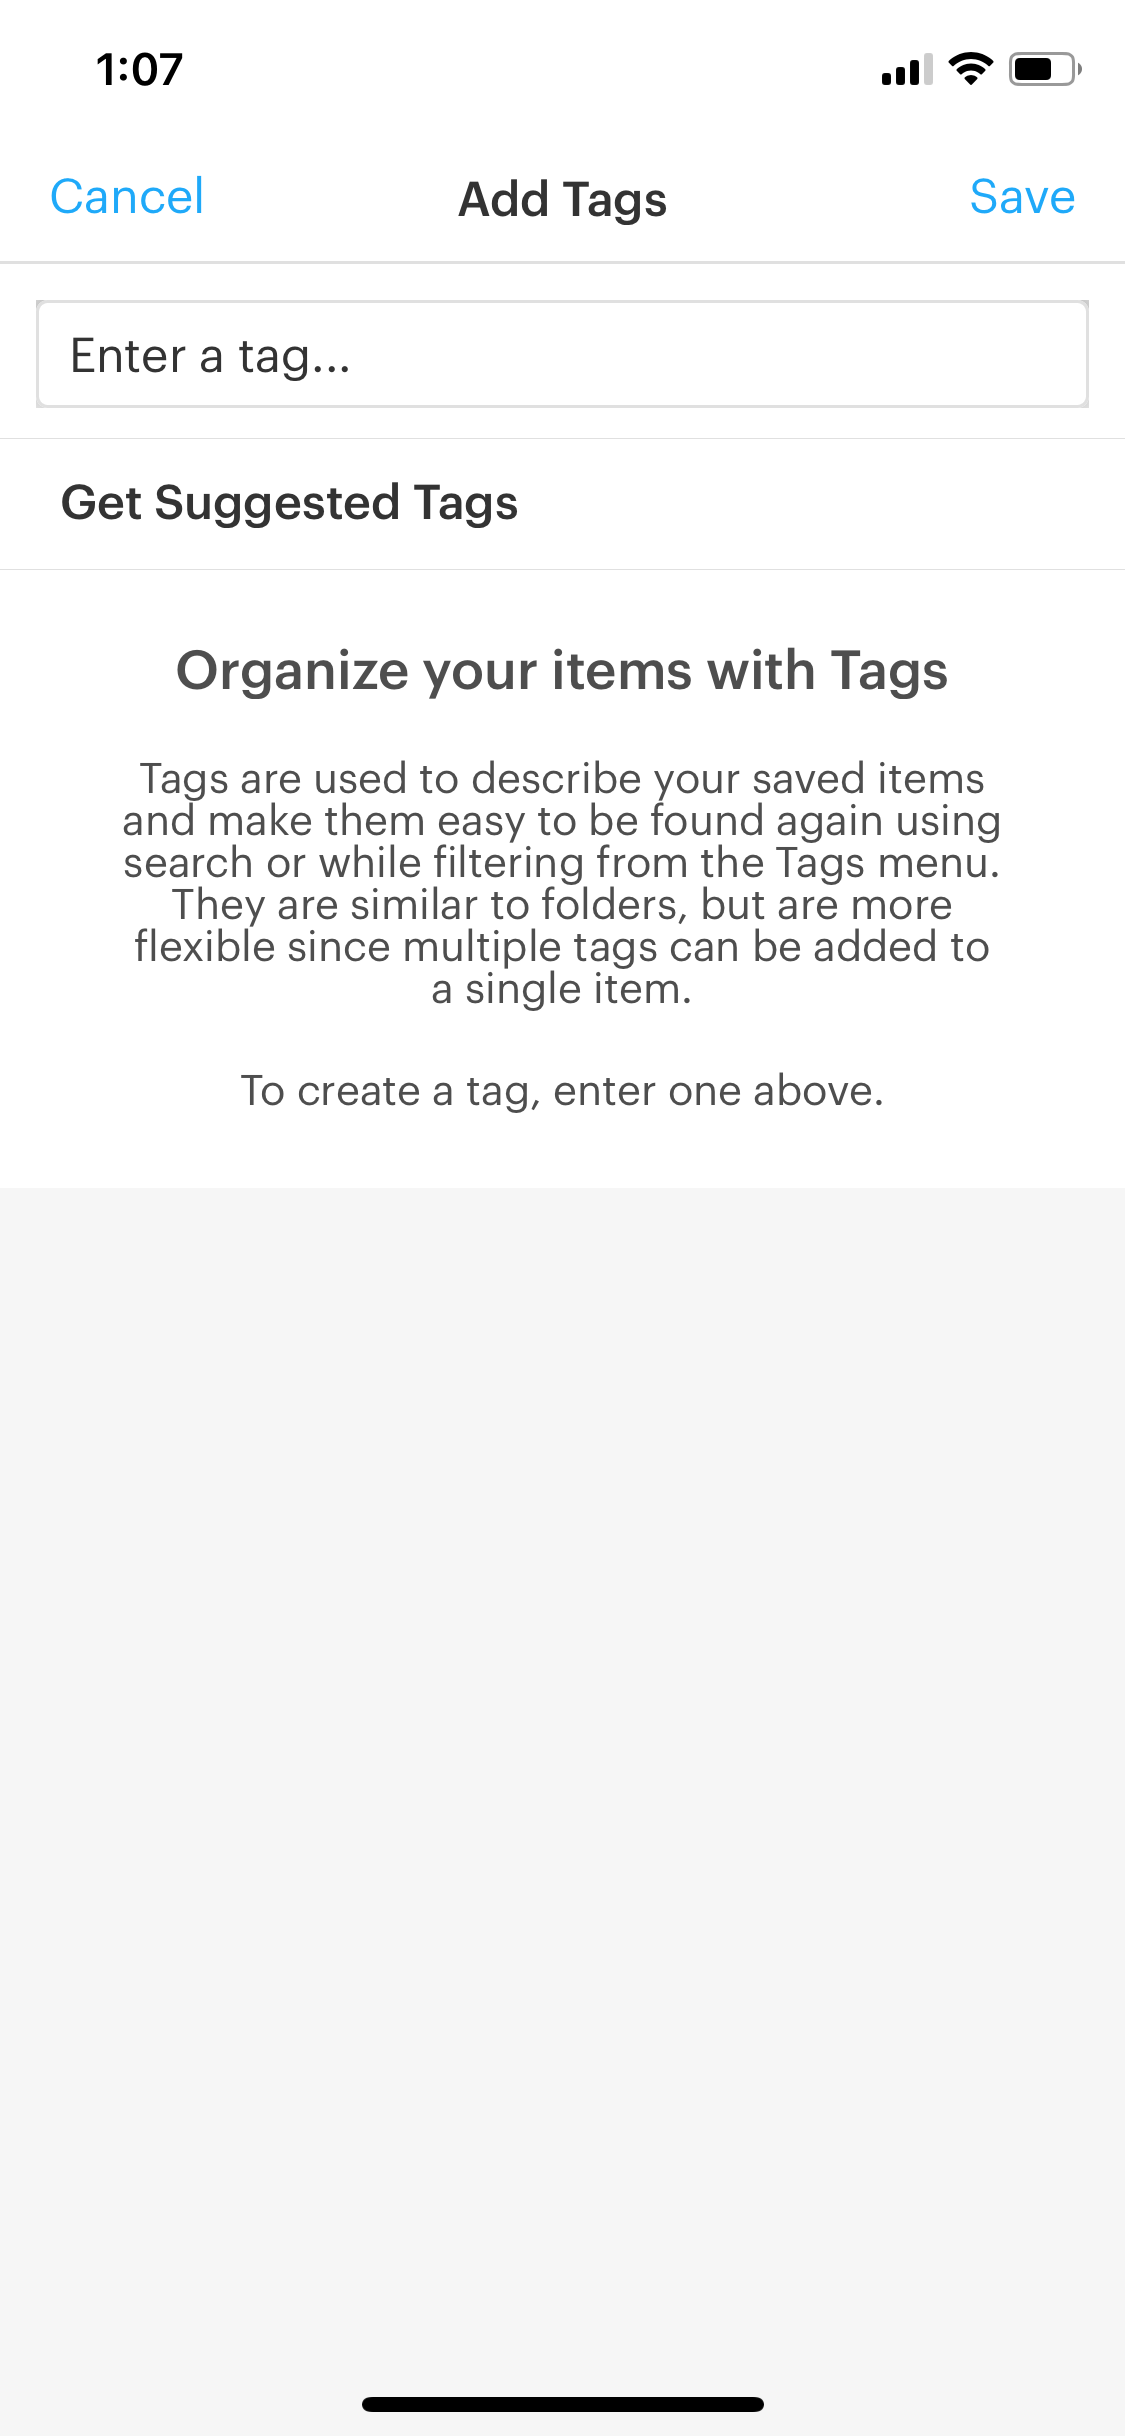Buttons: (11, 141, 235, 259), (925, 138, 1116, 256)
Text Fields: (28, 294, 1095, 416)
